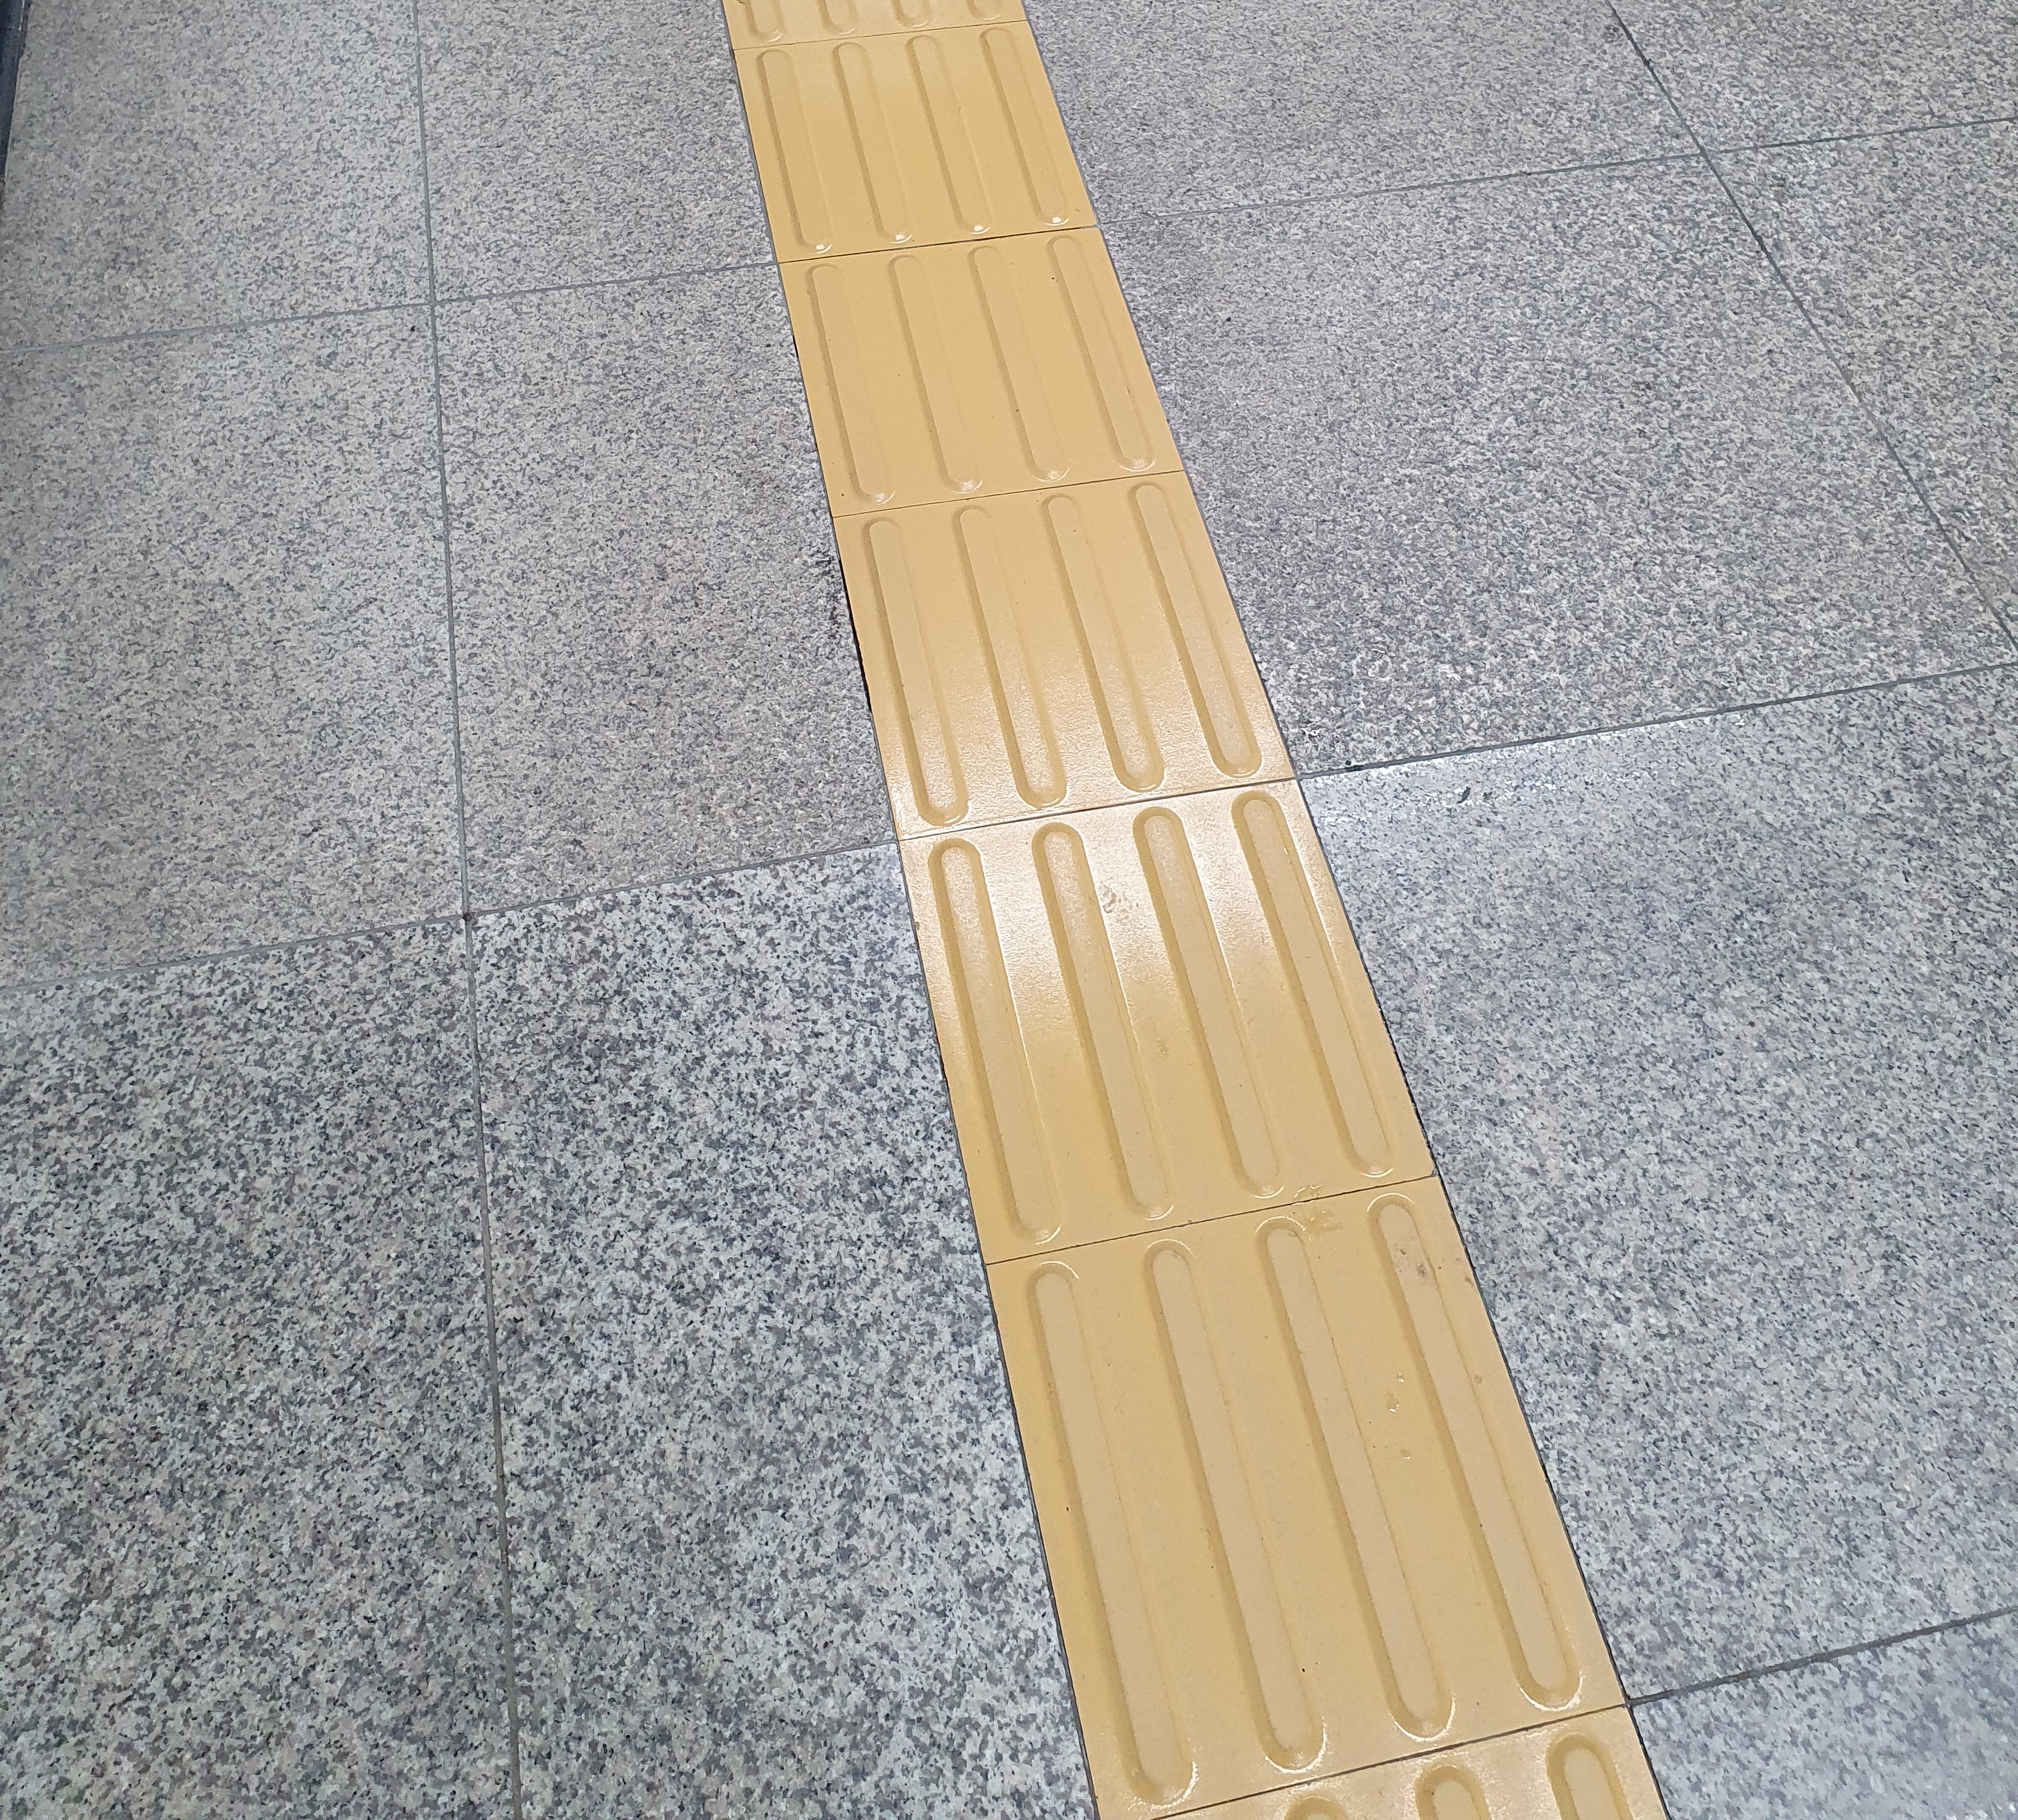guideBlock: (1010, 1216, 1705, 1794), (906, 827, 1440, 1254), (820, 480, 1317, 806), (789, 265, 1177, 543), (760, 60, 1147, 292)
